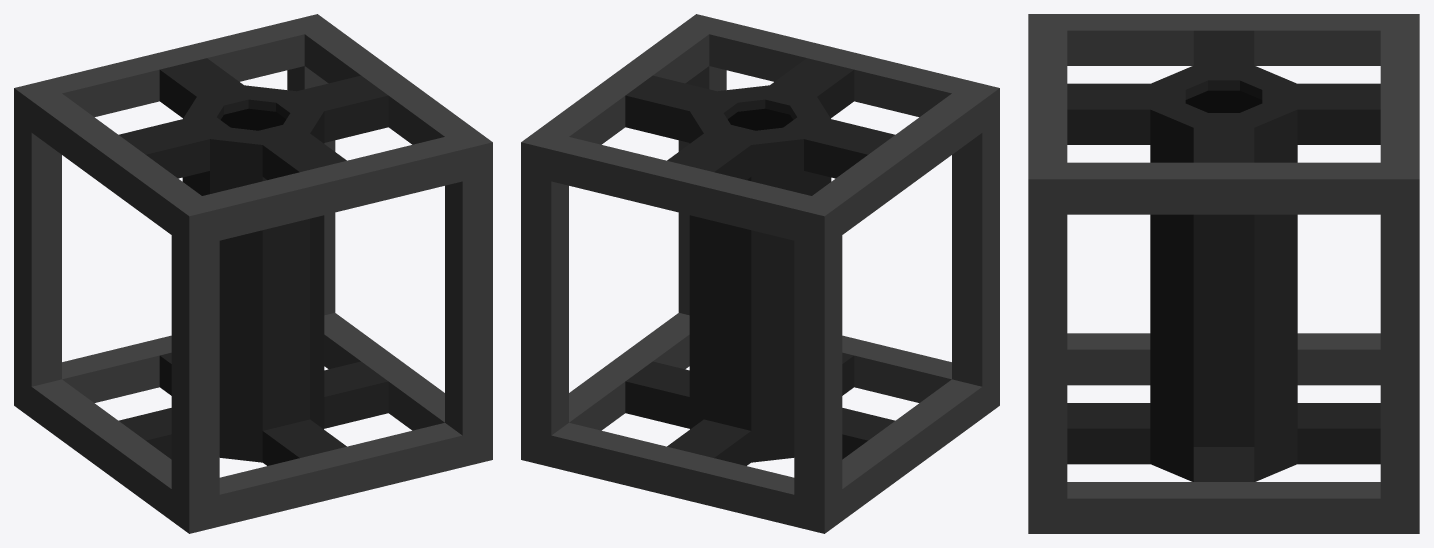
Rendered from PipeCube.fbx.
3 views of the same model, side by side, from view 1: azimuth 30°, elevation 25°; view 2: azimuth 150°, elevation 25°; view 3: azimuth 270°, elevation 25° (orthographic). The views are drawn at different scales.
Parts seen in each view (by area): view 1: Cube.085; view 2: Cube.085; view 3: Cube.085.
Boxes of the visible parts, bbox=[...] form: Cube.085: bbox=[14, 14, 492, 533]; Cube.085: bbox=[521, 14, 999, 533]; Cube.085: bbox=[1028, 14, 1419, 533].
Size of the model in its own units: 300 by 300 by 300.
